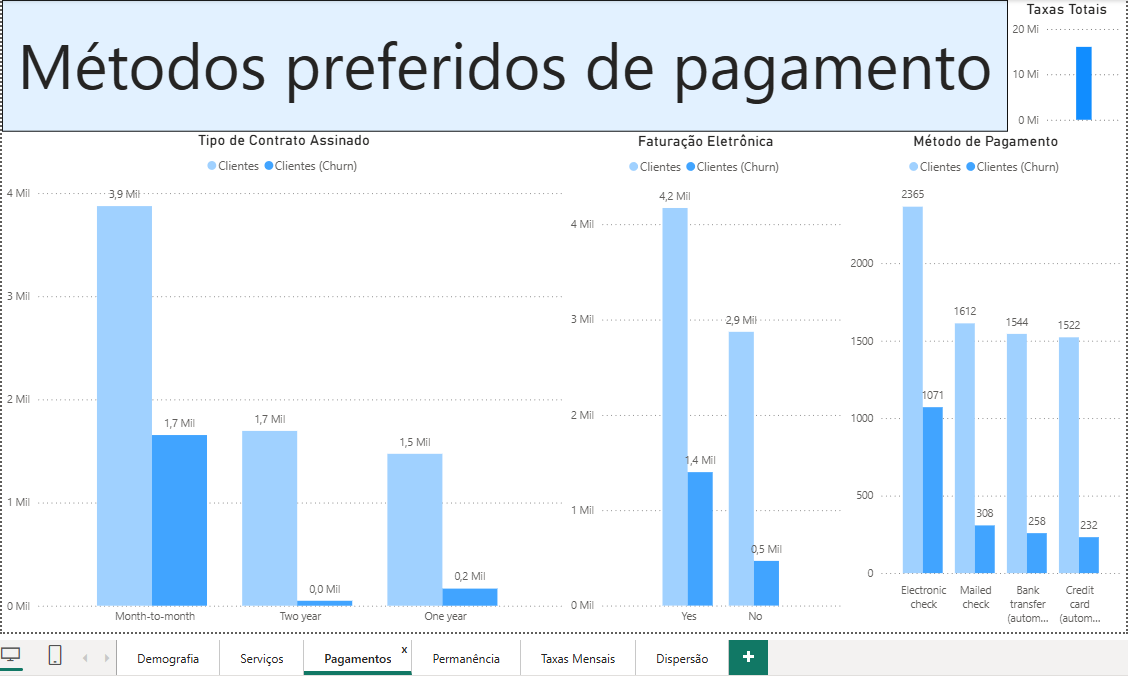

What the dashboard file says about the page in this screenshot:
{"tool":"powerbi","page":{"name":"Pagamentos","canvas":[1280,720],"ordinal":2},"visuals":[{"type":"clusteredColumnChart","title":"Tipo de Contrato Assinado","fields":{"Y":["CountNonNull(WA_Fn-UseC_-Telco-Customer-Churn.Contract)","Sum(WA_Fn-UseC_-Telco-Customer-Churn.Churn)"],"Category":["WA_Fn-UseC_-Telco-Customer-Churn.Contract"]},"box":[0,149.2,642.5,571.2],"z":0},{"type":"clusteredColumnChart","title":"Faturação Eletrônica","fields":{"Y":["CountNonNull(WA_Fn-UseC_-Telco-Customer-Churn.PaperlessBilling)","Sum(WA_Fn-UseC_-Telco-Customer-Churn.Churn)"],"Category":["WA_Fn-UseC_-Telco-Customer-Churn.PaperlessBilling"]},"box":[642.5,150.4,318.7,569.9],"z":1000},{"type":"clusteredColumnChart","title":"Método de Pagamento","fields":{"Y":["CountNonNull(WA_Fn-UseC_-Telco-Customer-Churn.PaymentMethod)","Sum(WA_Fn-UseC_-Telco-Customer-Churn.Churn)"],"Category":["WA_Fn-UseC_-Telco-Customer-Churn.PaymentMethod"]},"box":[961.3,150.4,318.7,569.9],"z":2000},{"type":"textbox","box":[0,0,1146.1,150.4],"z":3000},{"type":"clusteredColumnChart","title":"Taxas Totais","fields":{"Y":["Sum(WA_Fn-UseC_-Telco-Customer-Churn.TotalCharges)"]},"box":[1146.1,0,133.9,150.4],"z":4000}]}

Visuals, with their boxes on the page's 1280x720 design canvas (x1, y1, x2, y2). These are canvas units, not pixel positions in the 1128x676 screenshot, which may show the page scaled, cropped or inside an application window:
"Tipo de Contrato Assinado" clusteredColumnChart: (0,149,642,720)
"Faturação Eletrônica" clusteredColumnChart: (642,150,961,720)
"Método de Pagamento" clusteredColumnChart: (961,150,1280,720)
textbox: (0,0,1146,150)
"Taxas Totais" clusteredColumnChart: (1146,0,1280,150)
